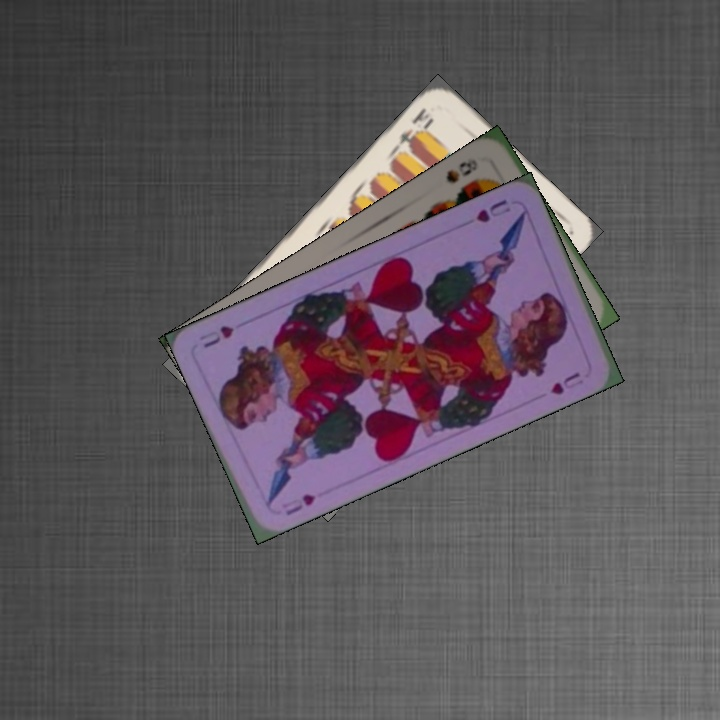E10: (391, 103, 437, 153)
HU: (472, 195, 513, 226), (281, 489, 319, 518)
S8: (442, 154, 481, 186)
